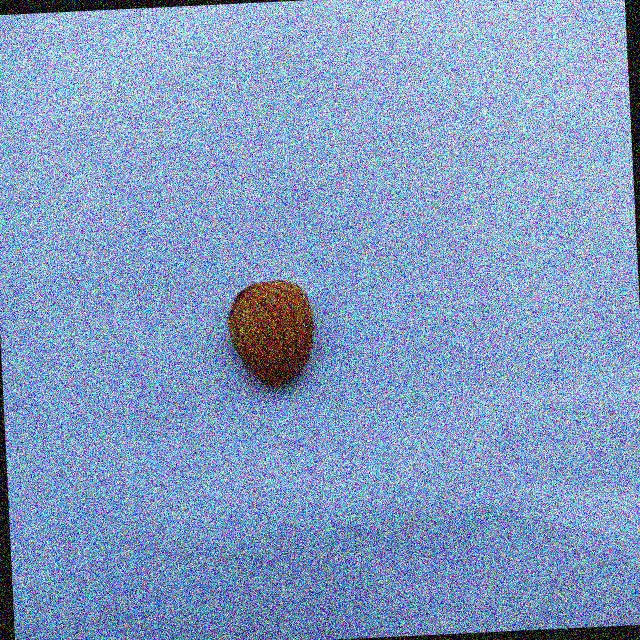grade1: (220, 272, 327, 398)
